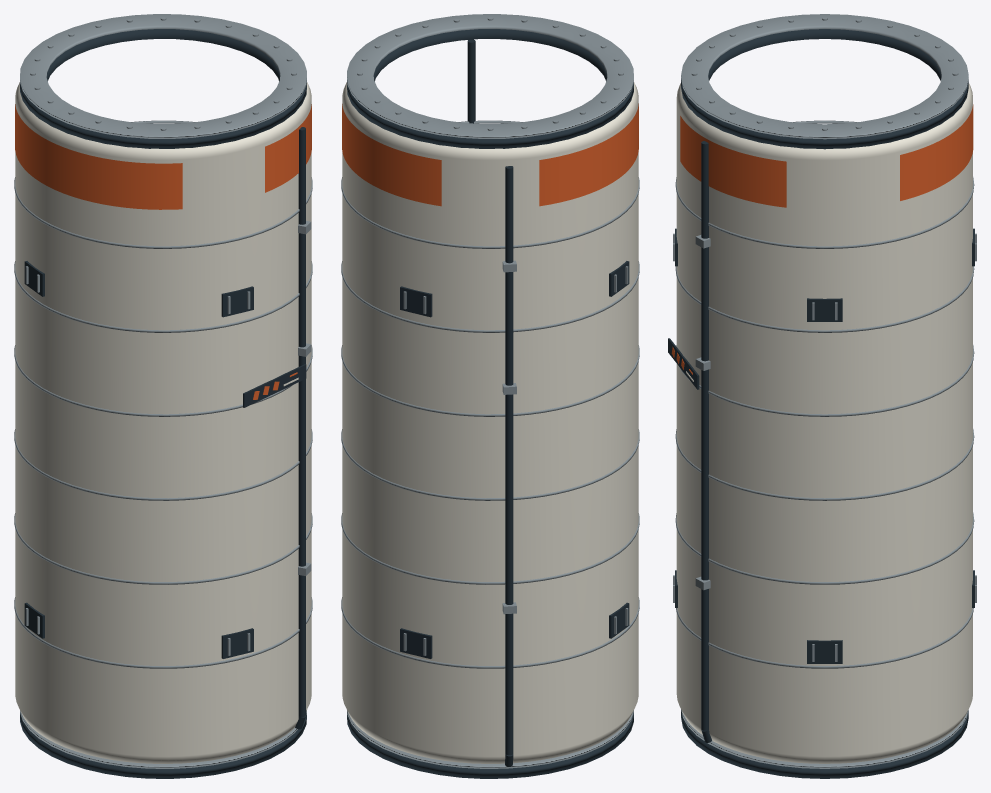
The model's file is b_240_rezerv.glb.
3 renders of one model, left to right at view 1: azimuth 30°, elevation 25°; view 2: azimuth 150°, elevation 25°; view 3: azimuth 270°, elevation 25°, orthographic.
Parts seen in each view (by area): view 1: b_240_rezerv.pressure_shell.mesh_JUGRE_·_bone_ceramic, b_240_rezerv.mesh_JUGRE_·_bead-blasted_titanium, b_240_rezerv.pressure_shell.mesh_JUGRE_·_oxide_orange, b_240_rezerv.mesh_JUGRE_·_graphite_composite, b_240_rezerv.pressure_shell.mesh_JUGRE_·_bead-blasted_titani, b_240_rezerv.feedline_a.mesh_JUGRE_·_graphite_composite, b_240_rezerv.mark_0_32.mesh_JUGRE_·_graphite_composite, b_240_rezerv.rail_2_01.mesh_JUGRE_·_graphite_composite, b_240_rezerv.rail_1_01.mesh_JUGRE_·_graphite_composite; view 2: b_240_rezerv.pressure_shell.mesh_JUGRE_·_bone_ceramic, b_240_rezerv.mesh_JUGRE_·_bead-blasted_titanium, b_240_rezerv.pressure_shell.mesh_JUGRE_·_oxide_orange, b_240_rezerv.mesh_JUGRE_·_graphite_composite, b_240_rezerv.pressure_shell.mesh_JUGRE_·_bead-blasted_titani, b_240_rezerv.feedline_b.mesh_JUGRE_·_graphite_composite, b_240_rezerv.feedline_a.mesh_JUGRE_·_graphite_composite, b_240_rezerv.rail_2_03.mesh_JUGRE_·_graphite_composite, b_240_rezerv.rail_1_03.mesh_JUGRE_·_graphite_composite; view 3: b_240_rezerv.pressure_shell.mesh_JUGRE_·_bone_ceramic, b_240_rezerv.mesh_JUGRE_·_bead-blasted_titanium, b_240_rezerv.mesh_JUGRE_·_graphite_composite, b_240_rezerv.pressure_shell.mesh_JUGRE_·_oxide_orange, b_240_rezerv.pressure_shell.mesh_JUGRE_·_bead-blasted_titani, b_240_rezerv.feedline_a.mesh_JUGRE_·_graphite_composite, b_240_rezerv.rail_1_02.mesh_JUGRE_·_graphite_composite, b_240_rezerv.rail_2_02.mesh_JUGRE_·_graphite_composite.
Boxes of the visible parts, box(x1,y1,x2,y2) form: b_240_rezerv.pressure_shell.mesh_JUGRE_·_bone_ceramic: box(15, 82, 311, 763); b_240_rezerv.mesh_JUGRE_·_bead-blasted_titanium: box(20, 14, 306, 768); b_240_rezerv.pressure_shell.mesh_JUGRE_·_oxide_orange: box(15, 104, 311, 209); b_240_rezerv.mesh_JUGRE_·_graphite_composite: box(20, 29, 306, 778); b_240_rezerv.pressure_shell.mesh_JUGRE_·_bead-blasted_titani: box(14, 120, 312, 668); b_240_rezerv.feedline_a.mesh_JUGRE_·_graphite_composite: box(295, 127, 305, 729); b_240_rezerv.mark_0_32.mesh_JUGRE_·_graphite_composite: box(243, 364, 306, 407); b_240_rezerv.rail_2_01.mesh_JUGRE_·_graphite_composite: box(221, 286, 253, 317); b_240_rezerv.rail_1_01.mesh_JUGRE_·_graphite_composite: box(221, 628, 253, 658); b_240_rezerv.pressure_shell.mesh_JUGRE_·_bone_ceramic: box(342, 82, 638, 763); b_240_rezerv.mesh_JUGRE_·_bead-blasted_titanium: box(347, 14, 633, 768); b_240_rezerv.pressure_shell.mesh_JUGRE_·_oxide_orange: box(342, 103, 638, 206); b_240_rezerv.mesh_JUGRE_·_graphite_composite: box(347, 29, 633, 778); b_240_rezerv.pressure_shell.mesh_JUGRE_·_bead-blasted_titani: box(341, 120, 639, 668); b_240_rezerv.feedline_b.mesh_JUGRE_·_graphite_composite: box(505, 166, 513, 766); b_240_rezerv.feedline_a.mesh_JUGRE_·_graphite_composite: box(467, 39, 475, 123); b_240_rezerv.rail_2_03.mesh_JUGRE_·_graphite_composite: box(400, 286, 432, 317); b_240_rezerv.rail_1_03.mesh_JUGRE_·_graphite_composite: box(400, 628, 432, 658); b_240_rezerv.pressure_shell.mesh_JUGRE_·_bone_ceramic: box(676, 83, 972, 763); b_240_rezerv.mesh_JUGRE_·_bead-blasted_titanium: box(681, 14, 968, 768); b_240_rezerv.mesh_JUGRE_·_graphite_composite: box(681, 29, 968, 778); b_240_rezerv.pressure_shell.mesh_JUGRE_·_oxide_orange: box(680, 104, 973, 207); b_240_rezerv.pressure_shell.mesh_JUGRE_·_bead-blasted_titani: box(675, 120, 974, 668); b_240_rezerv.feedline_a.mesh_JUGRE_·_graphite_composite: box(701, 141, 711, 742); b_240_rezerv.rail_1_02.mesh_JUGRE_·_graphite_composite: box(807, 640, 842, 663); b_240_rezerv.rail_2_02.mesh_JUGRE_·_graphite_composite: box(807, 298, 842, 321).
Size of the model in its own units: 2.56 by 6 by 2.6.
